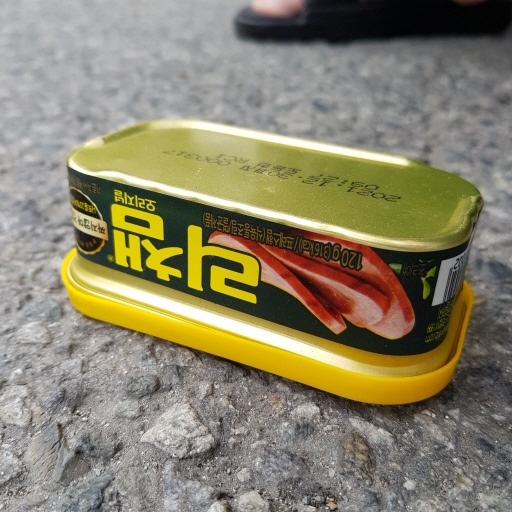Metal_2: (57, 115, 483, 409)
